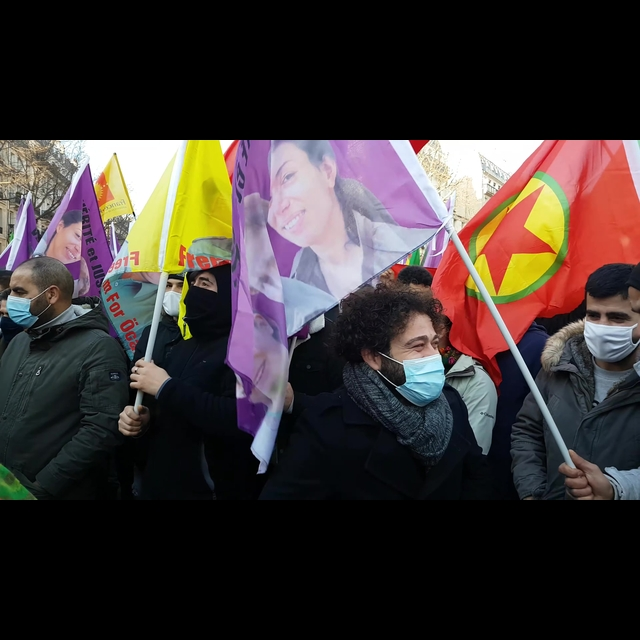PKK: (454, 137, 640, 310)
